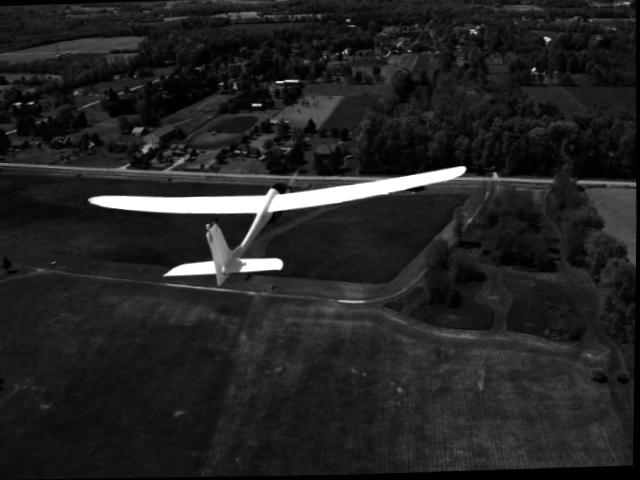hedef: (75, 142, 471, 296)
